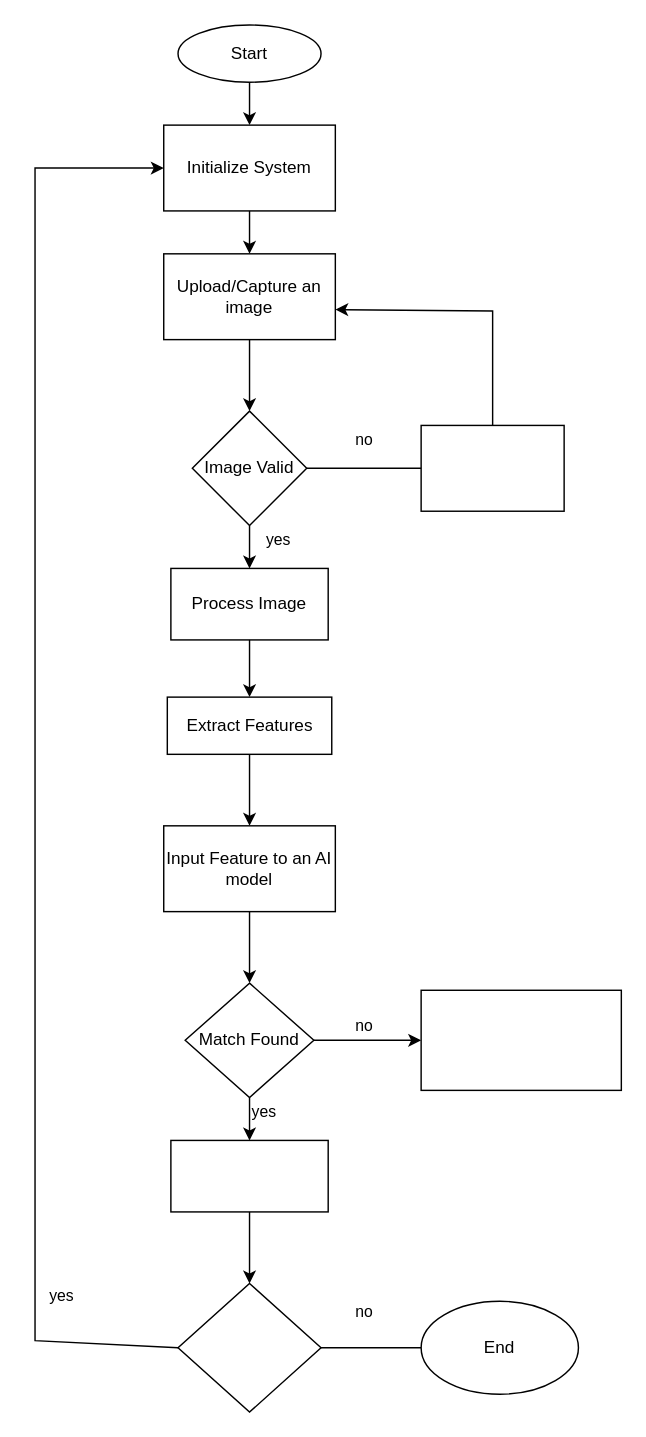
Image size: 646x1437. Some labels were removed from this diagram. Each missing label, with the centre of its shape:
"Display Message: Healthy Plant/Disease not found" belongs at (x=520, y=1039).
"Display the Details" belongs at (x=248, y=1175).
"Request a proper Image" belongs at (x=492, y=467).
"User Want to continue" belongs at (x=249, y=1347).
